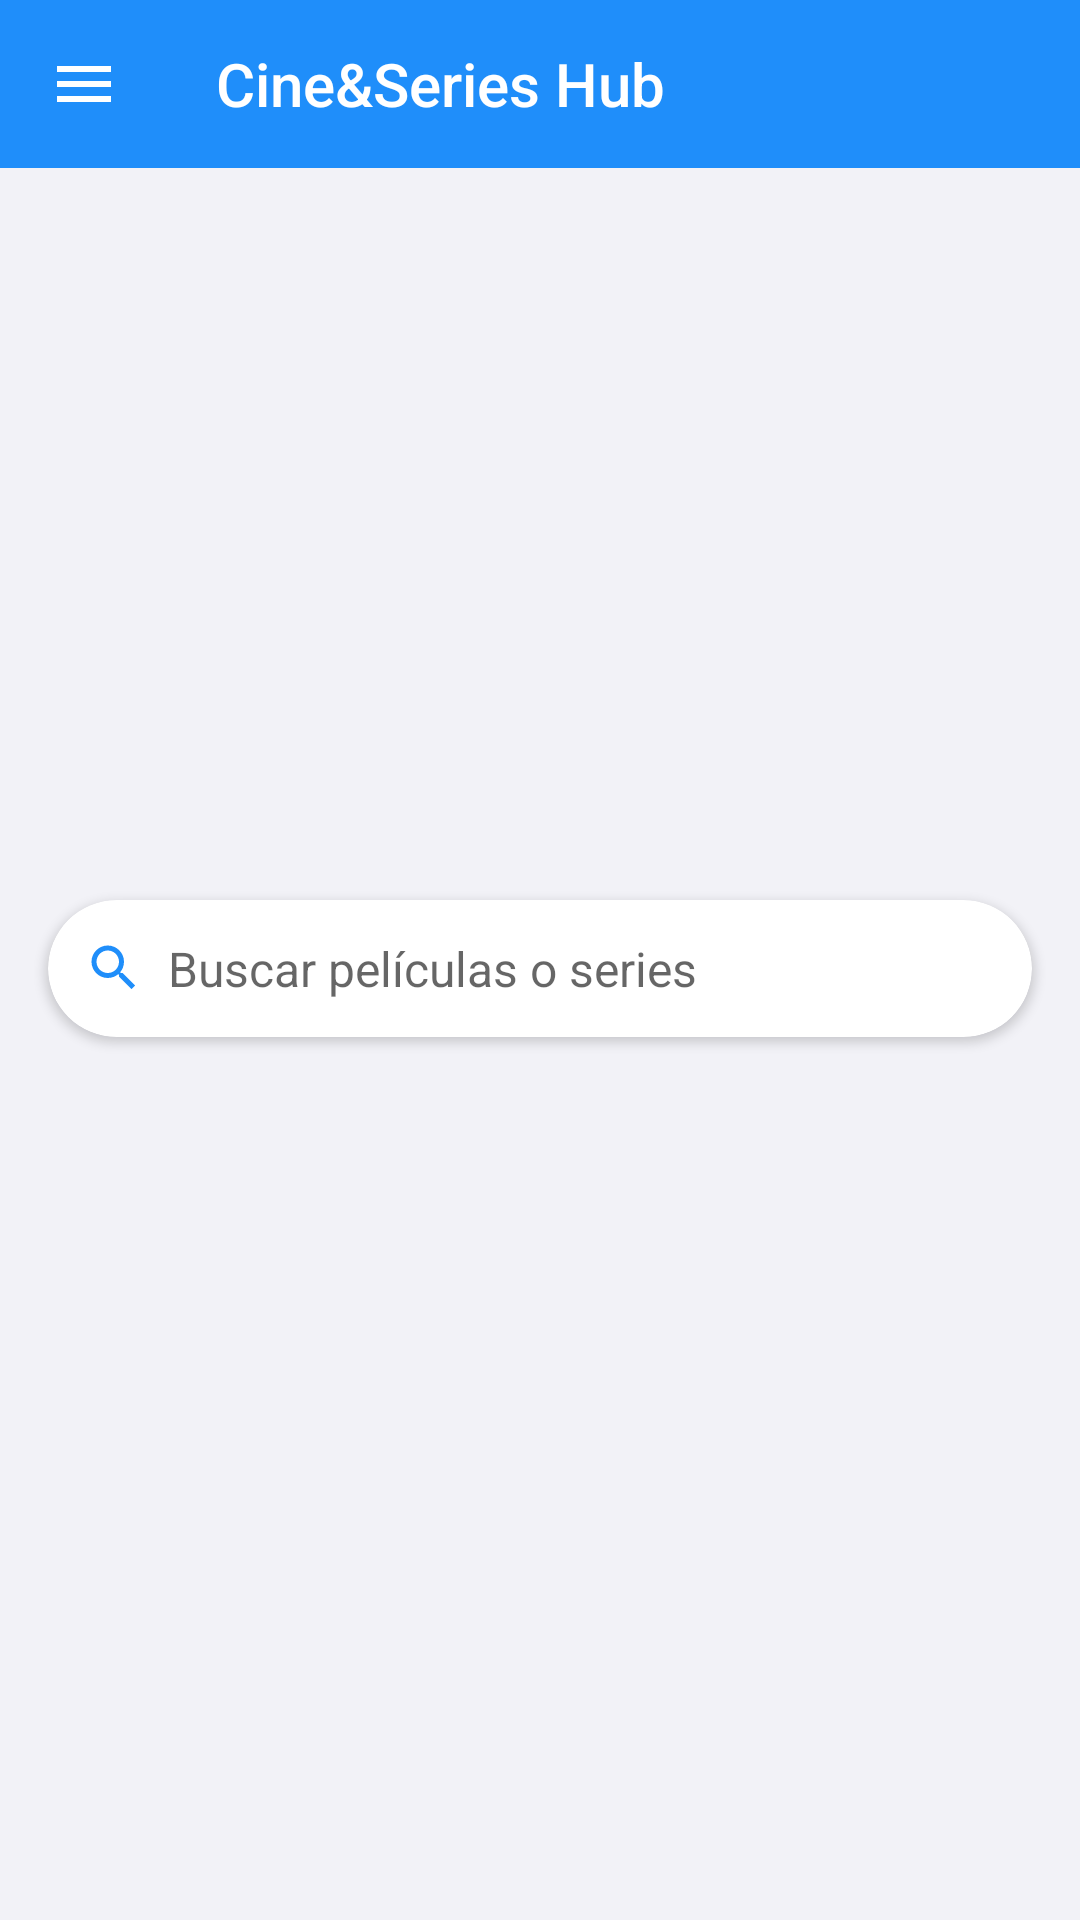

Screen size 1080px x 1920px. Icon name, then its box in pixels as [left=x1, top=y1, right=x2, bottom=y2]:
search: [left=91, top=945, right=135, bottom=989]
